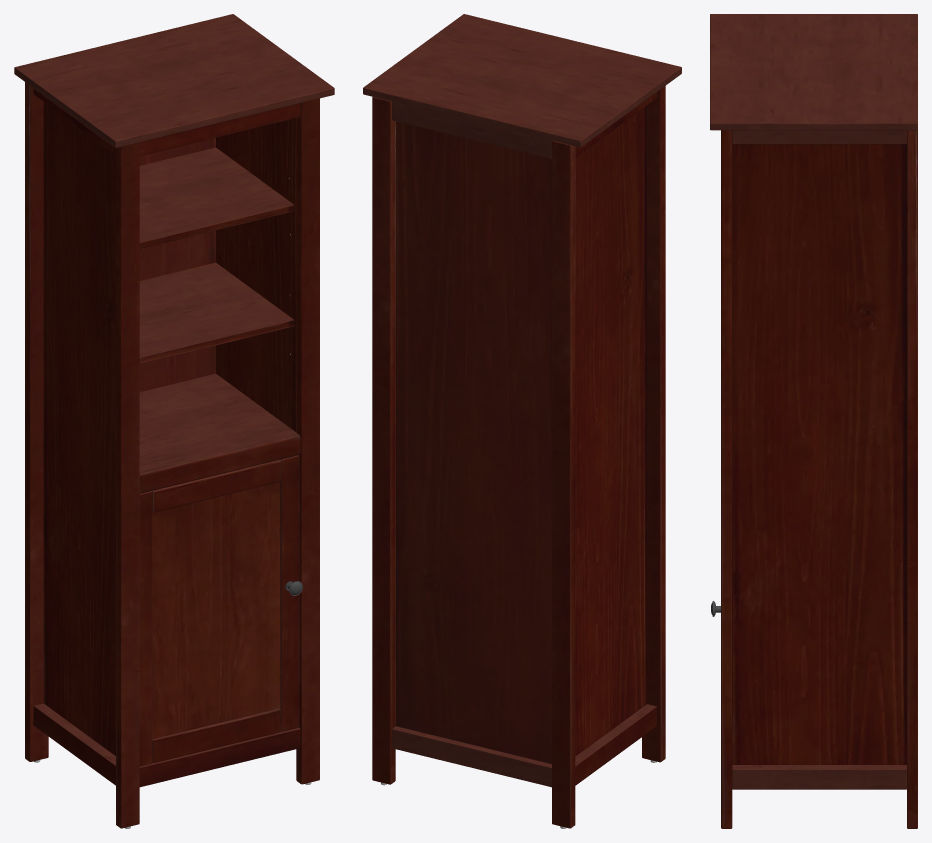
The model's file is abo-B07DBDX23M.glb.
The picture shows the model from 3 angles, left to right: view 1: azimuth 30°, elevation 25°; view 2: azimuth 150°, elevation 25°; view 3: azimuth 270°, elevation 25°; orthographic projection. The views are drawn at different scales.
Size of the model in its own units: 0.5 by 1.52 by 0.401.
Materials: 1 (1 with a texture image).
